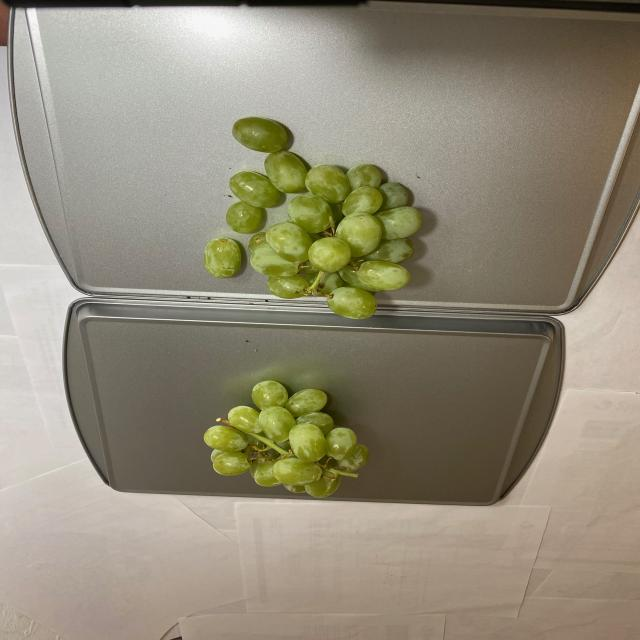grapes: (206, 118, 431, 319), (206, 374, 368, 498)
